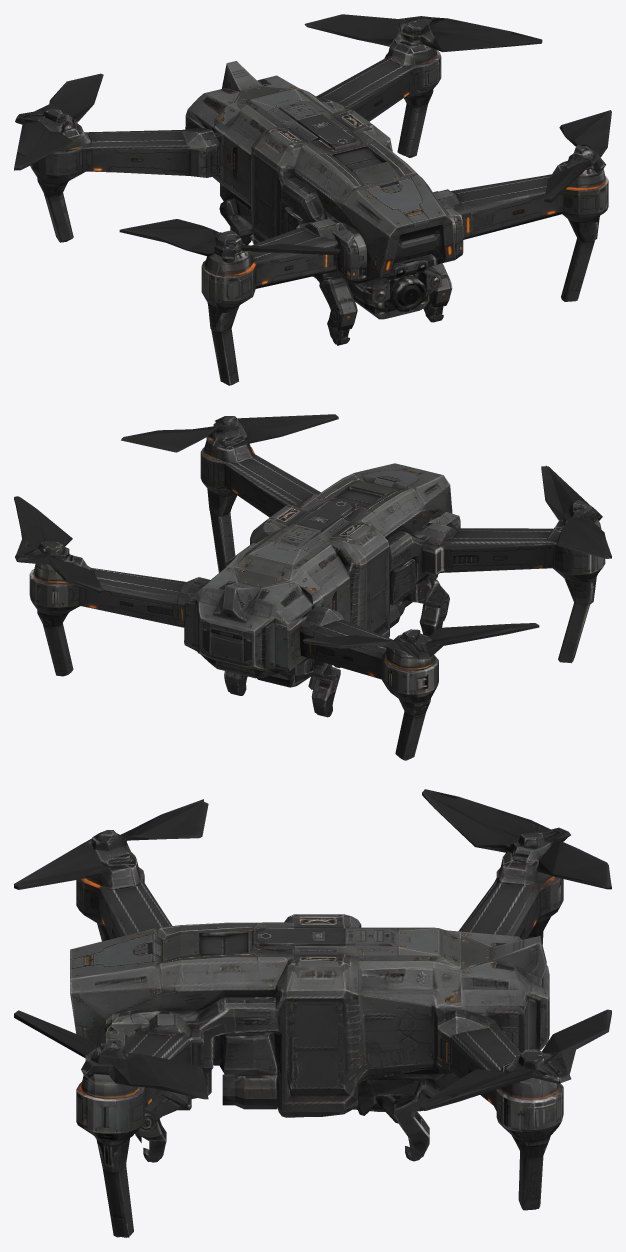
File: drone.glb
The picture shows the model from 3 angles, top to bottom: view 1: azimuth 30°, elevation 25°; view 2: azimuth 150°, elevation 25°; view 3: azimuth 270°, elevation 25°; orthographic projection. The views are drawn at different scales.
Visible parts, largest first — view 1: Mesh_0; view 2: Mesh_0; view 3: Mesh_0.
Boxes of the visible parts, bbox=[...] form: Mesh_0: bbox=[14, 14, 611, 385]; Mesh_0: bbox=[14, 414, 611, 760]; Mesh_0: bbox=[14, 789, 611, 1237].
Bounding box in the file's own units: 1.9 × 0.544 × 1.5.
Materials: 1 (1 with a texture image).
